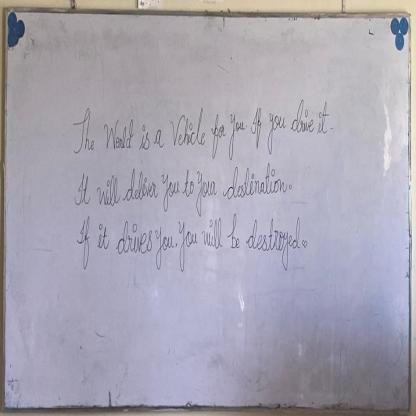Handwritten text: (70, 91, 328, 164), (78, 215, 300, 278), (67, 166, 287, 211)
Whiteboard: (2, 4, 416, 416)
